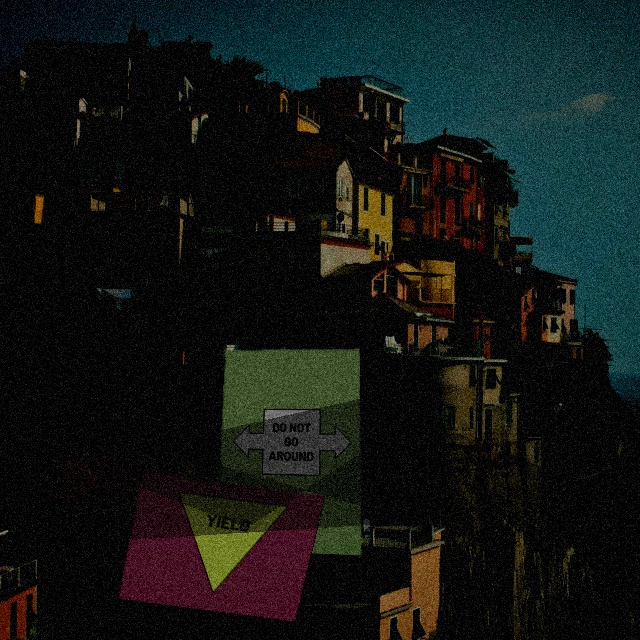DO_NOT_GO_AROUND: (231, 409, 352, 476)
YIELD: (158, 490, 288, 602)
